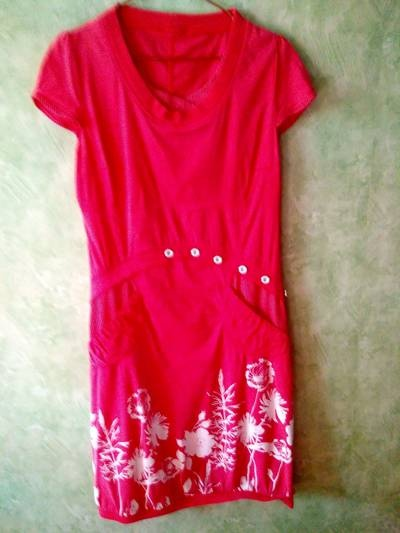Dress: (47, 0, 350, 527)
